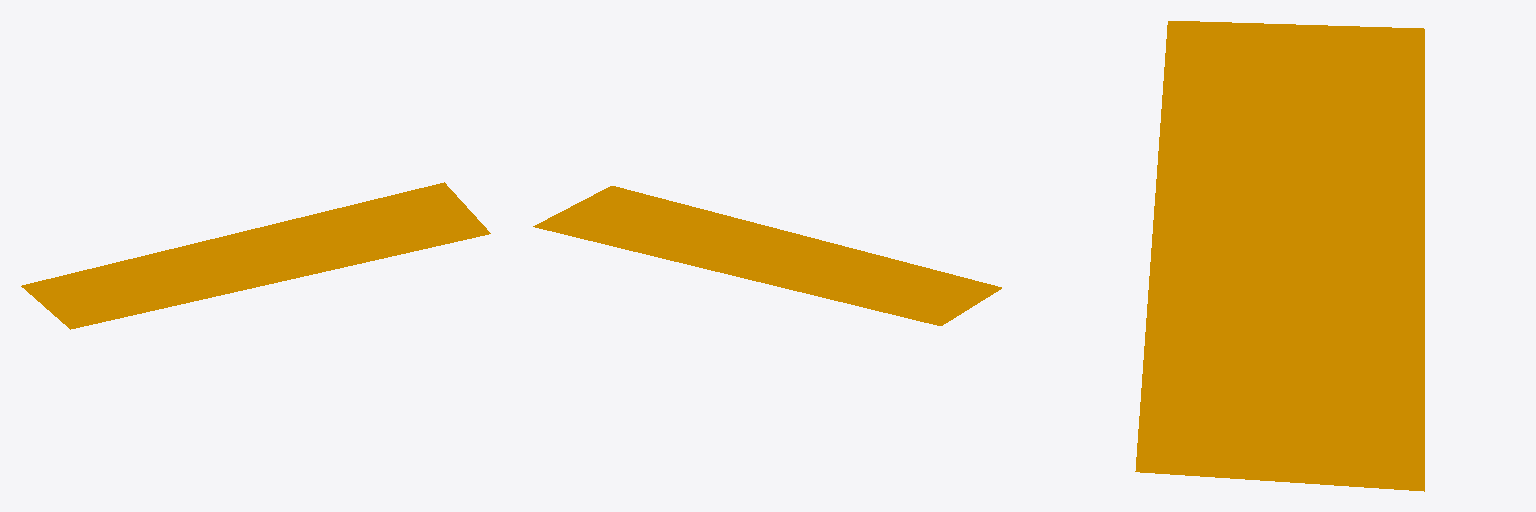
The robot description file, URDF, robot "scene0420_01_floor1":
<robot name="scene0420_01_floor1">
	<link name="_name">
		<visual>
			<origin xyz="0 0 0" rpy="0 0 0" />
			<geometry>
				<mesh filename="scene0420_01_floor1.obj" />
			</geometry>
		</visual>
		<collision>
			<origin rpy="0 0 0" xyz="0 0 0" />
			<geometry>
				<mesh filename="scene0420_01_floor1_vhacd.obj" />
			</geometry>
		</collision>
		<inertial>
			<origin rpy="0 0 0" xyz="0 0 0" />
			<mass value="100" />
			<inertia ixx="0.001" ixy="0.0" ixz="0.0" iyy="0.001" iyz="0.0" izz="0.001" />
		</inertial>
	</link>
</robot>

--- What the picture shows (computed from the rendered views, not written in the file) ---
Views: 3 orthographic renders of the robot side by side, from view 1: azimuth 30°, elevation 25°; view 2: azimuth 150°, elevation 25°; view 3: azimuth 270°, elevation 25°.
Robot: scene0420_01_floor1 — 1 links, 0 joints (none); root link _name; default pose: all joints at 0.
Links seen in each view (by area): view 1: _name; view 2: _name; view 3: _name.
Boxes of the visible links, x1,y1,x2,y2 form: _name: (21,182,490,329); _name: (533,186,1001,325); _name: (1135,21,1424,491).
Bounding box of the posed robot: 6.95 × 1.8 × 0 m (x, y, z).
1 mesh visuals loaded from 1 distinct referenced files (1 OBJ).
